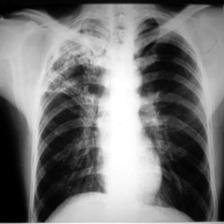tuberculosis: (21, 5, 218, 224)
